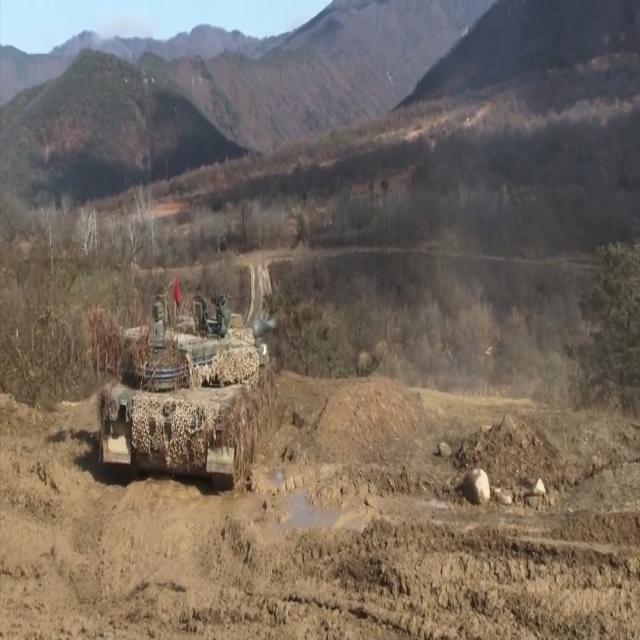korea tank: (95, 292, 319, 500)
